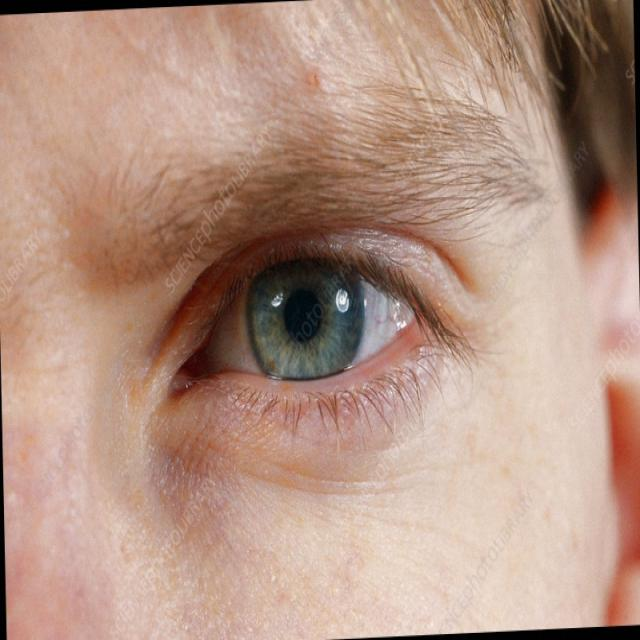Healthy-Eye: (110, 148, 508, 506)
